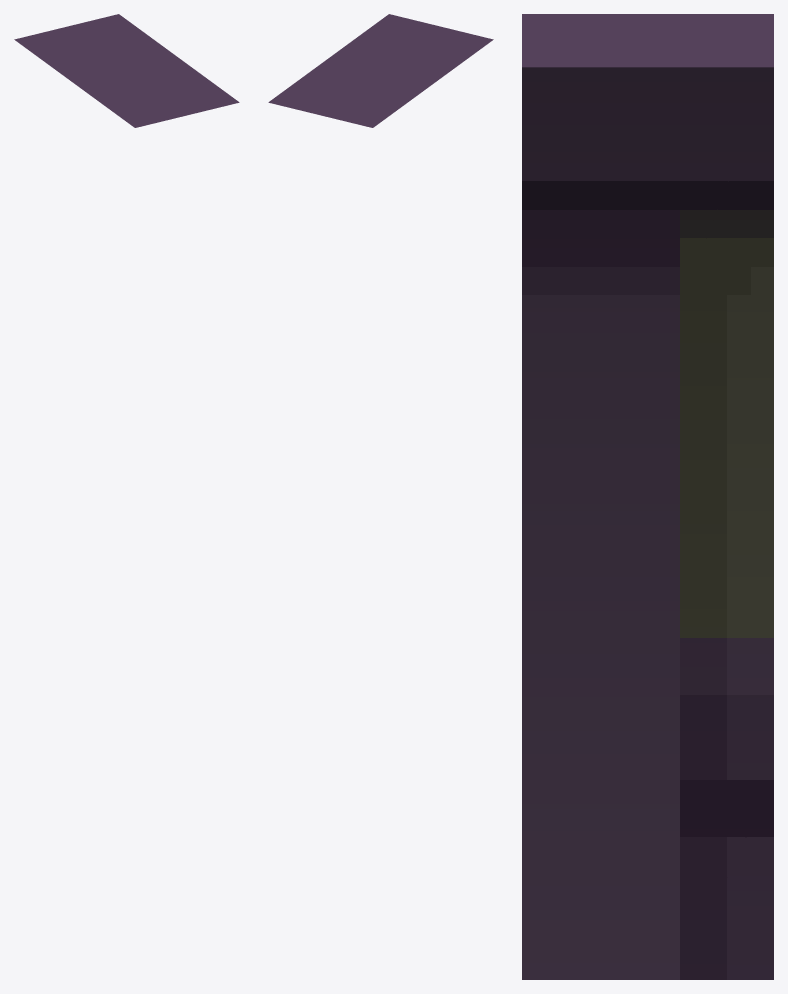
The picture shows the model from 3 angles, left to right: view 1: azimuth 30°, elevation 25°; view 2: azimuth 150°, elevation 25°; view 3: azimuth 270°, elevation 25°; orthographic projection. The views are drawn at different scales.
Size of the model in its own units: 0.5 by 4 by 1.
Materials: 2 (2 with a texture image).
